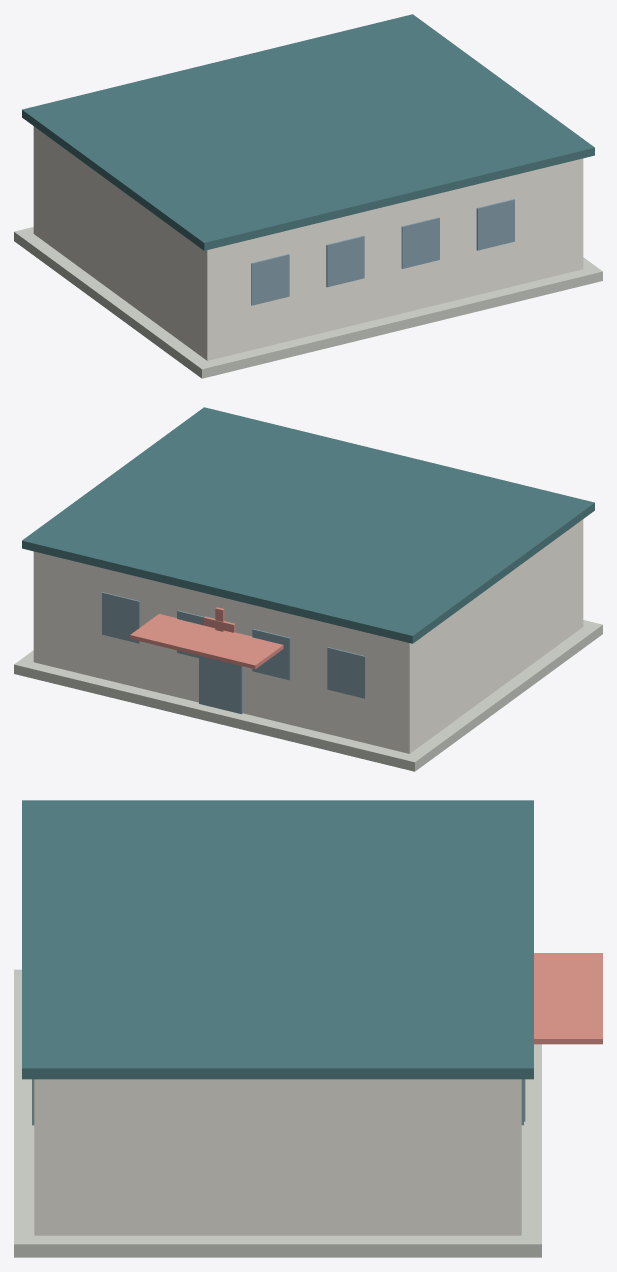
File: medical_station.glb
The picture shows the model from 3 angles, top to bottom: view 1: azimuth 30°, elevation 25°; view 2: azimuth 150°, elevation 25°; view 3: azimuth 270°, elevation 25°; orthographic projection. The views are drawn at different scales.
Parts seen in each view (by area): view 1: medical_station__roof, medical_station__walls, medical_station__plinth, medical_station__window, medical_station__window.002, medical_station__window.004, medical_station__window.006; view 2: medical_station__roof, medical_station__walls, medical_station__plinth, medical_station__canopy, medical_station__front_door, medical_station__window.001, medical_station__window.007, medical_station__window.003; view 3: medical_station__roof, medical_station__walls, medical_station__plinth, medical_station__canopy.
Part boxes in pixels (<box>): medical_station__roof: <box>22,14,594,250</box>; medical_station__walls: <box>33,126,583,360</box>; medical_station__plinth: <box>14,227,602,378</box>; medical_station__window: <box>251,254,289,305</box>; medical_station__window.002: <box>326,236,364,287</box>; medical_station__window.004: <box>401,217,439,268</box>; medical_station__window.006: <box>476,199,514,250</box>; medical_station__roof: <box>22,407,594,643</box>; medical_station__walls: <box>33,519,583,753</box>; medical_station__plinth: <box>14,620,602,771</box>; medical_station__canopy: <box>130,614,283,669</box>; medical_station__front_door: <box>199,656,242,714</box>; medical_station__window.001: <box>327,647,365,698</box>; medical_station__window.007: <box>102,592,140,643</box>; medical_station__window.003: <box>252,629,290,680</box>; medical_station__roof: <box>22,800,533,1079</box>; medical_station__walls: <box>34,1079,521,1235</box>; medical_station__plinth: <box>14,969,541,1257</box>; medical_station__canopy: <box>534,953,602,1044</box>.
Bounding box in the file's own units: 16 × 5.05 × 14.5.
